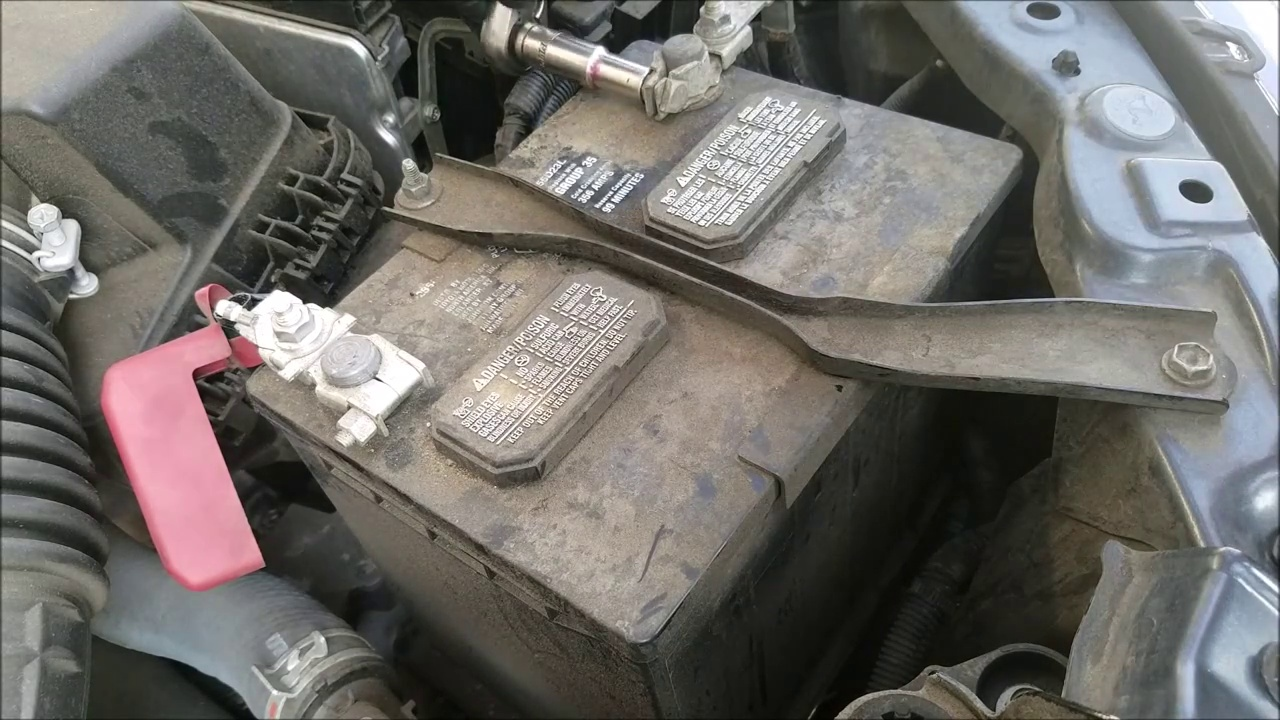battery: (229, 12, 1017, 615)
neg_connected: (629, 2, 765, 117)
pos_disconnected: (129, 260, 434, 452)
